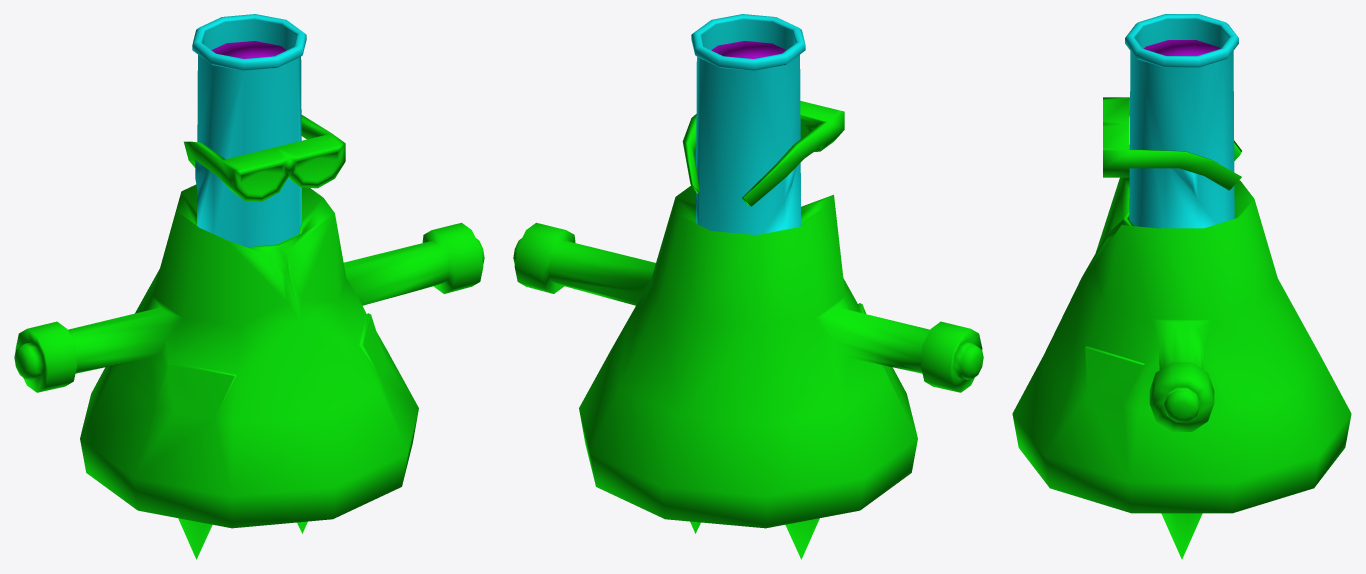
File: SK_scientist.fbx
The picture shows the model from 3 angles, left to right: view 1: azimuth 30°, elevation 25°; view 2: azimuth 150°, elevation 25°; view 3: azimuth 270°, elevation 25°; orthographic projection. The views are drawn at different scales.
Visible parts, largest first — view 1: pCylinder2; view 2: pCylinder2; view 3: pCylinder2.
Part boxes in pixels (bbox=[...]): pCylinder2: bbox=[14, 14, 484, 559]; pCylinder2: bbox=[513, 14, 983, 559]; pCylinder2: bbox=[1012, 14, 1351, 559].
Size of the model in its own units: 103 by 109 by 67.41.
